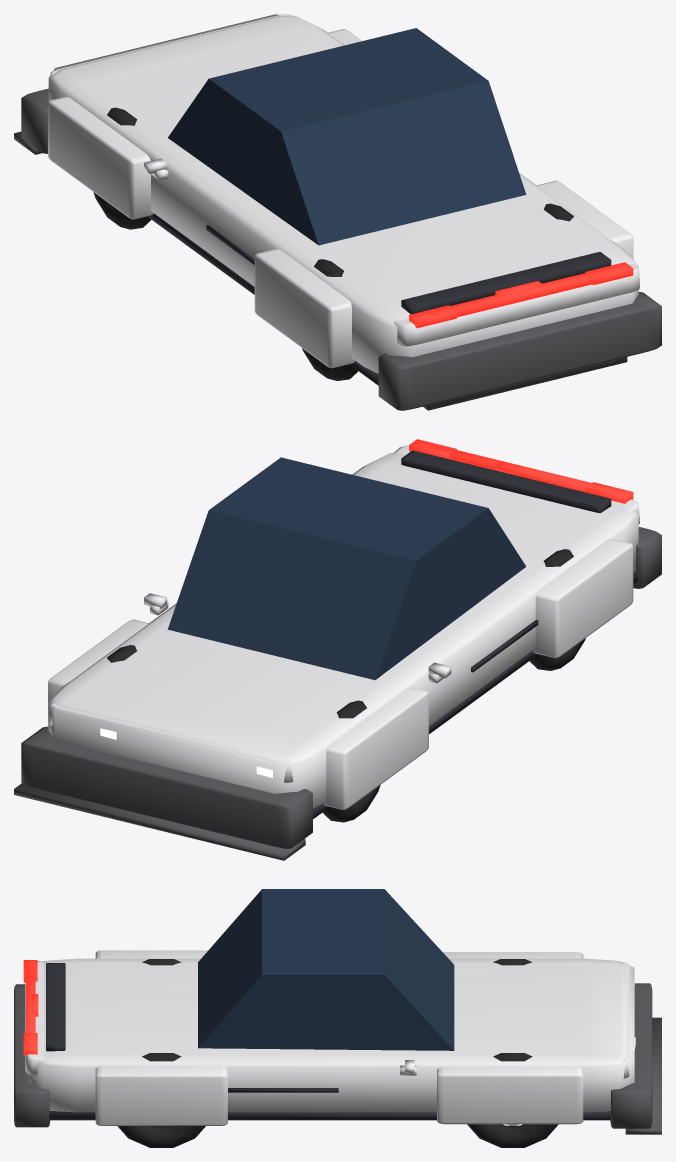
File: coupe.glb
3 renders of one model, top to bottom at view 1: azimuth 30°, elevation 25°; view 2: azimuth 150°, elevation 25°; view 3: azimuth 270°, elevation 25°, orthographic. The views are drawn at different scales.
Visible parts, largest first — view 1: Body, GlassCanopy, RearBumper, Fender-1R, Fender-1F, Trunk, SpoilerLip, red_glass, Fender+1R, FrontBumper, Diffuser, BodyTrim (+4 smaller); view 2: Body, GlassCanopy, FrontBumper, Fender-1R, Fender-1F, SpoilerLip, Splitter, Fender+1F, red_glass, RearBumper, BodyTrim, Tire1 (+2 smaller); view 3: Body, GlassCanopy, Fender+1F, Fender+1R, FrontBumper, RearBumper, BodyTrim, Tire0, SpoilerLip, Tire2, Splitter, Trunk (+5 smaller).
Part boxes in pixels (bbox=[...]): Body: bbox=[48, 14, 638, 373]; GlassCanopy: bbox=[168, 28, 526, 245]; RearBumper: bbox=[378, 292, 661, 410]; Fender-1R: bbox=[254, 249, 354, 368]; Fender-1F: bbox=[48, 96, 153, 219]; Trunk: bbox=[393, 264, 639, 346]; SpoilerLip: bbox=[401, 252, 611, 314]; red_glass: bbox=[427, 267, 615, 317]; Fender+1R: bbox=[536, 180, 633, 259]; FrontBumper: bbox=[21, 88, 48, 153]; Diffuser: bbox=[423, 357, 627, 410]; BodyTrim: bbox=[147, 213, 378, 385]; Body: bbox=[48, 453, 638, 808]; GlassCanopy: bbox=[167, 457, 526, 680]; FrontBumper: bbox=[21, 726, 312, 848]; Fender-1R: bbox=[533, 539, 633, 658]; Fender-1F: bbox=[323, 687, 428, 809]; SpoilerLip: bbox=[401, 450, 611, 513]; Splitter: bbox=[14, 783, 305, 860]; Fender+1F: bbox=[48, 619, 148, 726]; red_glass: bbox=[426, 444, 615, 492]; RearBumper: bbox=[633, 527, 661, 588]; BodyTrim: bbox=[313, 572, 637, 818]; Tire1: bbox=[322, 700, 380, 822]; Body: bbox=[28, 958, 634, 1112]; GlassCanopy: bbox=[198, 889, 454, 1050]; Fender+1F: bbox=[437, 1066, 583, 1124]; Fender+1R: bbox=[95, 1065, 227, 1125]; FrontBumper: bbox=[610, 983, 652, 1128]; RearBumper: bbox=[14, 984, 50, 1127]; BodyTrim: bbox=[49, 1110, 610, 1120]; Tire0: bbox=[467, 1053, 558, 1147]; SpoilerLip: bbox=[46, 963, 65, 1051]; Tire2: bbox=[117, 1053, 205, 1147]; Splitter: bbox=[625, 1017, 661, 1134]; Trunk: bbox=[25, 961, 45, 1075].
Size of the model in its own units: 2.14 by 1.34 by 4.65.
